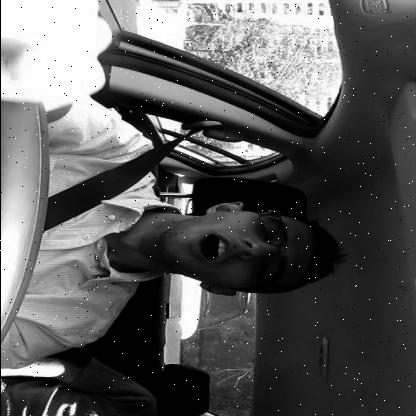seatbelt: (36, 136, 362, 306)
